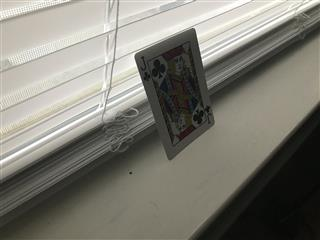JackOfClubs: (133, 27, 215, 160)
